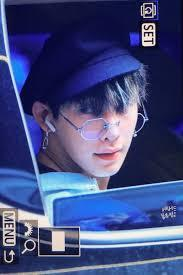earphone: (41, 112, 59, 133)
